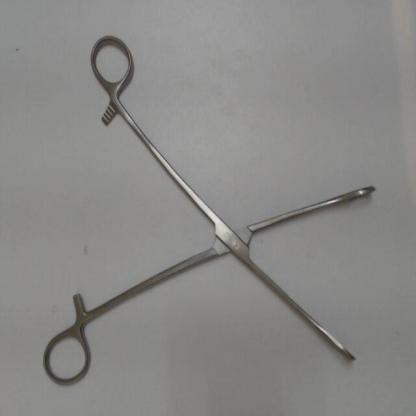Sponge Forceps: (37, 29, 381, 394)
